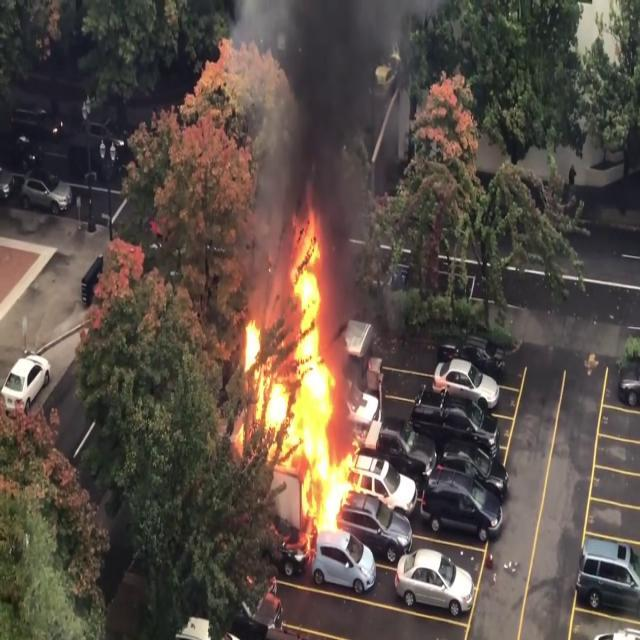Fire: (235, 213, 362, 548)
Smoke: (235, 0, 396, 263)
